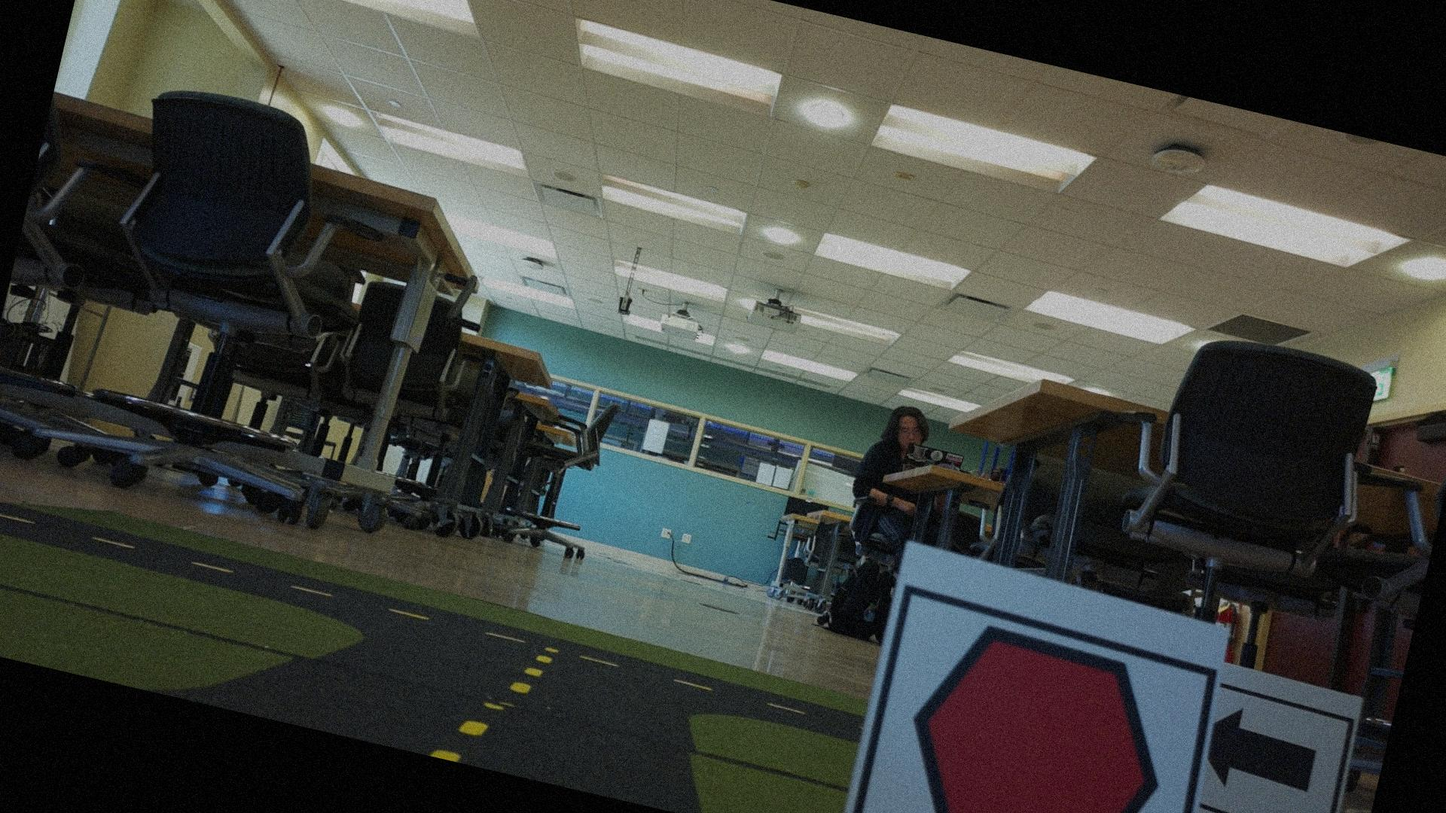stop: (866, 599, 1201, 812)
yellowline: (435, 691, 499, 768), (502, 644, 552, 704)
